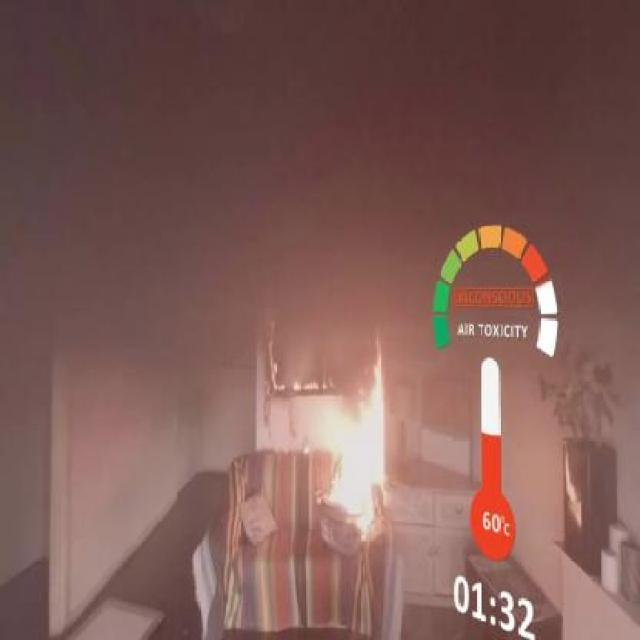fire: (248, 303, 394, 534)
smoke: (27, 18, 346, 317)
